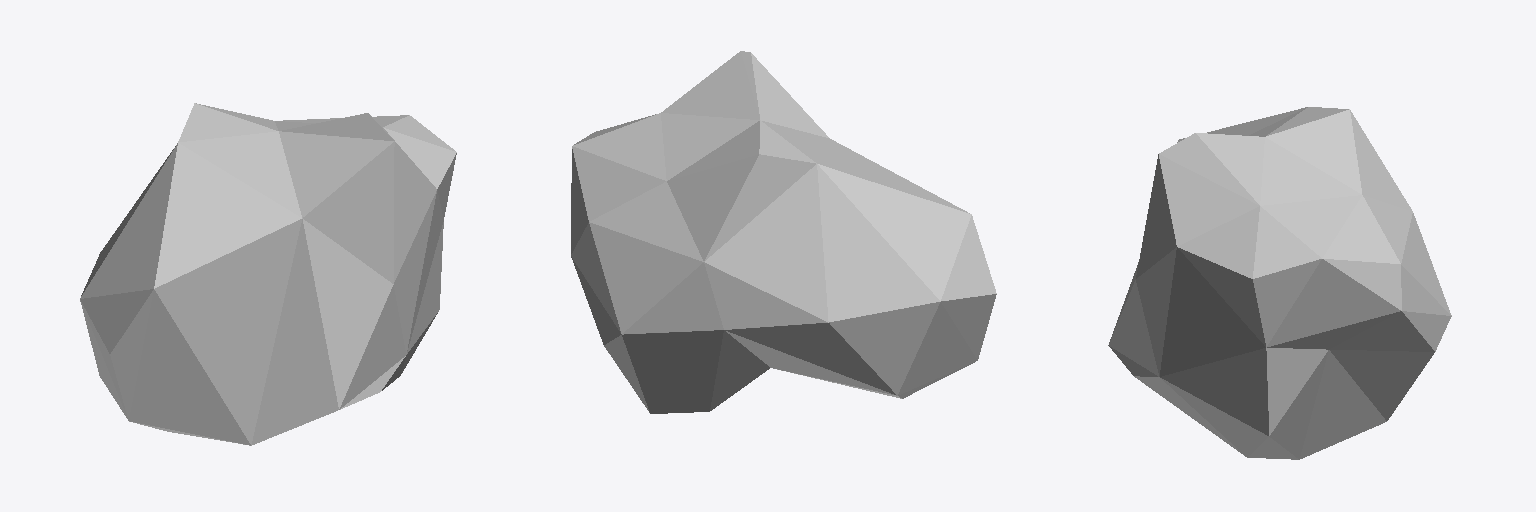
The model's file is Rock_02.obj.
3 views of the same model, side by side, from view 1: azimuth 30°, elevation 25°; view 2: azimuth 150°, elevation 25°; view 3: azimuth 270°, elevation 25° (orthographic).
Parts seen in each view (by area): view 1: Icosphere; view 2: Icosphere; view 3: Icosphere.
Boxes of the visible parts, box(x1,y1,x2,y2) form: Icosphere: box(80, 103, 456, 445); Icosphere: box(571, 51, 996, 413); Icosphere: box(1108, 107, 1451, 459).
Size of the model in its own units: 2.79 by 2.23 by 2.21.